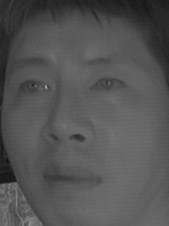eye: (85, 72, 128, 99), (14, 74, 54, 100)
mouth: (38, 157, 104, 198)
